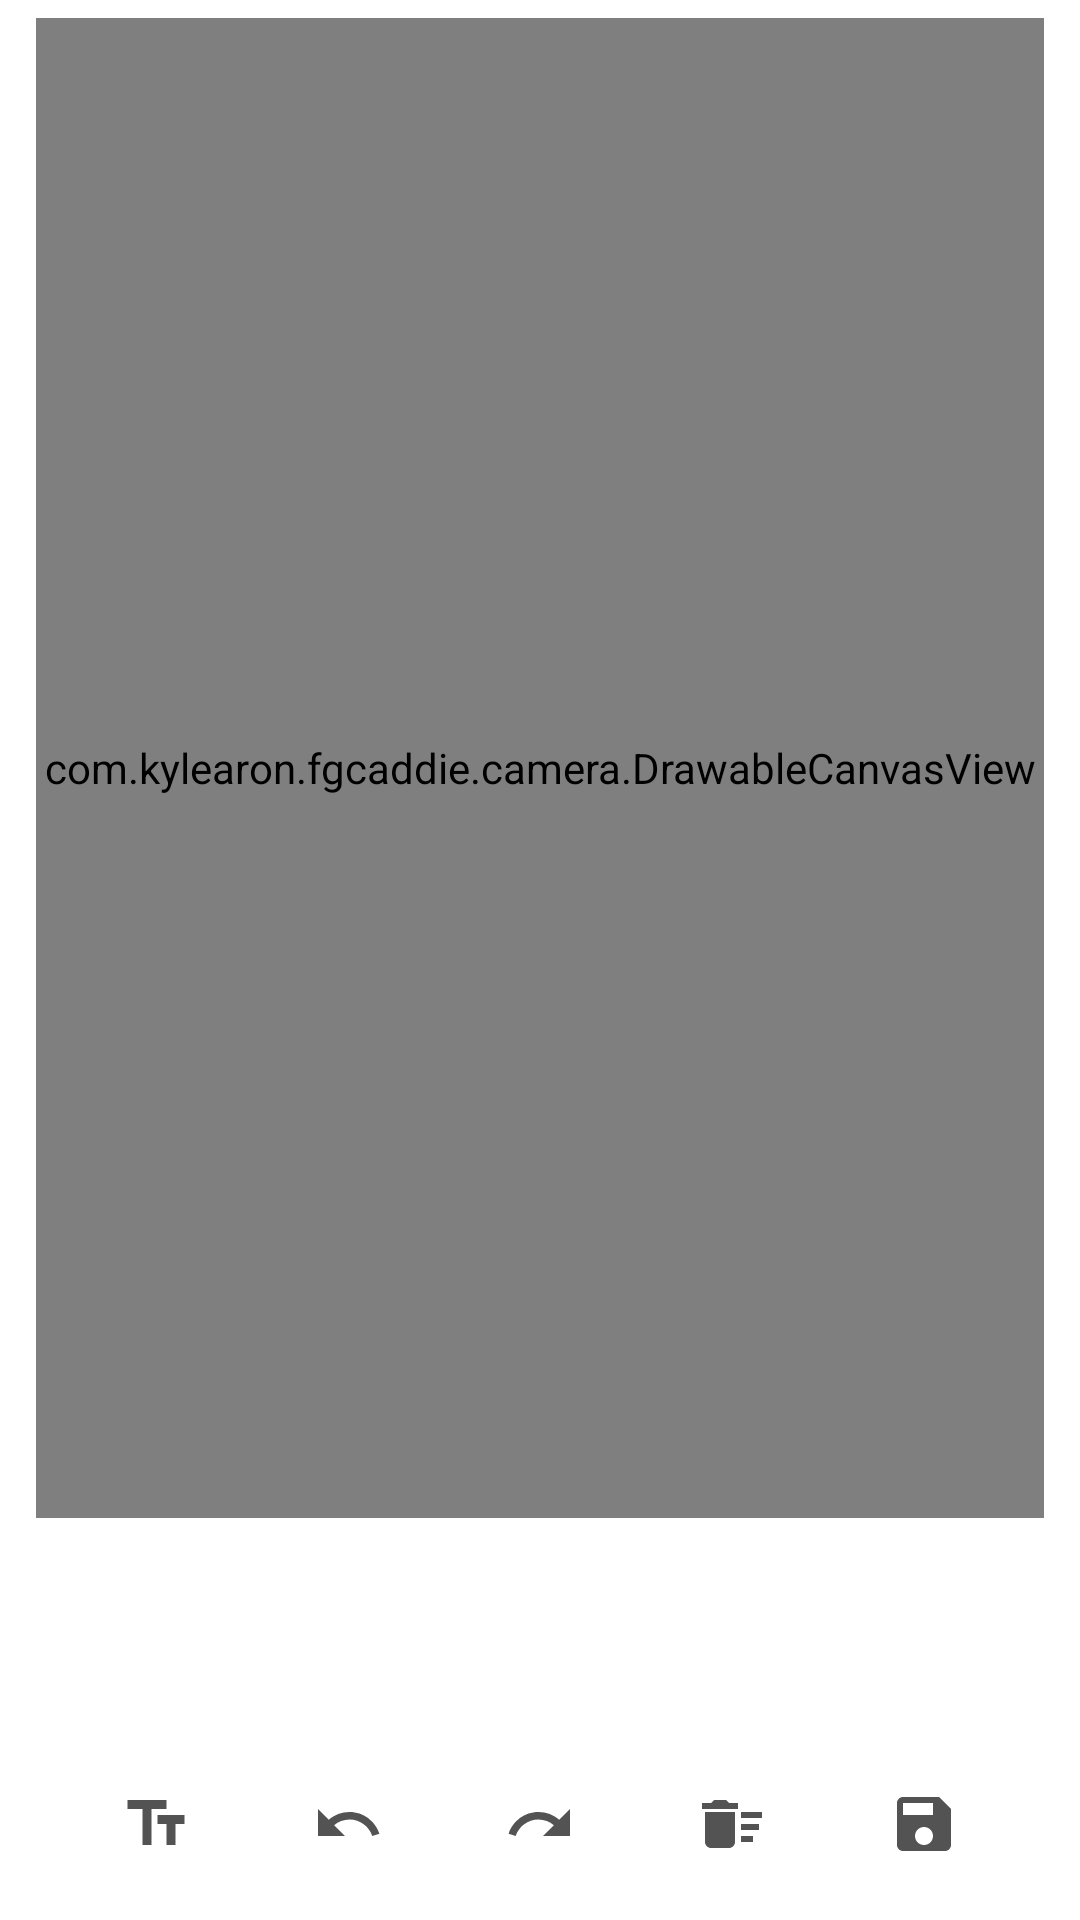

Icon bounding boxes for this 1080w x 1920h phone screenshot, format bbox(x1, y1, x2, y2):
delete sweep: bbox(702, 1800, 762, 1848)
redo: bbox(508, 1809, 570, 1836)
save: bbox(897, 1797, 951, 1851)
text fields: bbox(127, 1800, 185, 1845)
undo: bbox(318, 1809, 380, 1836)
